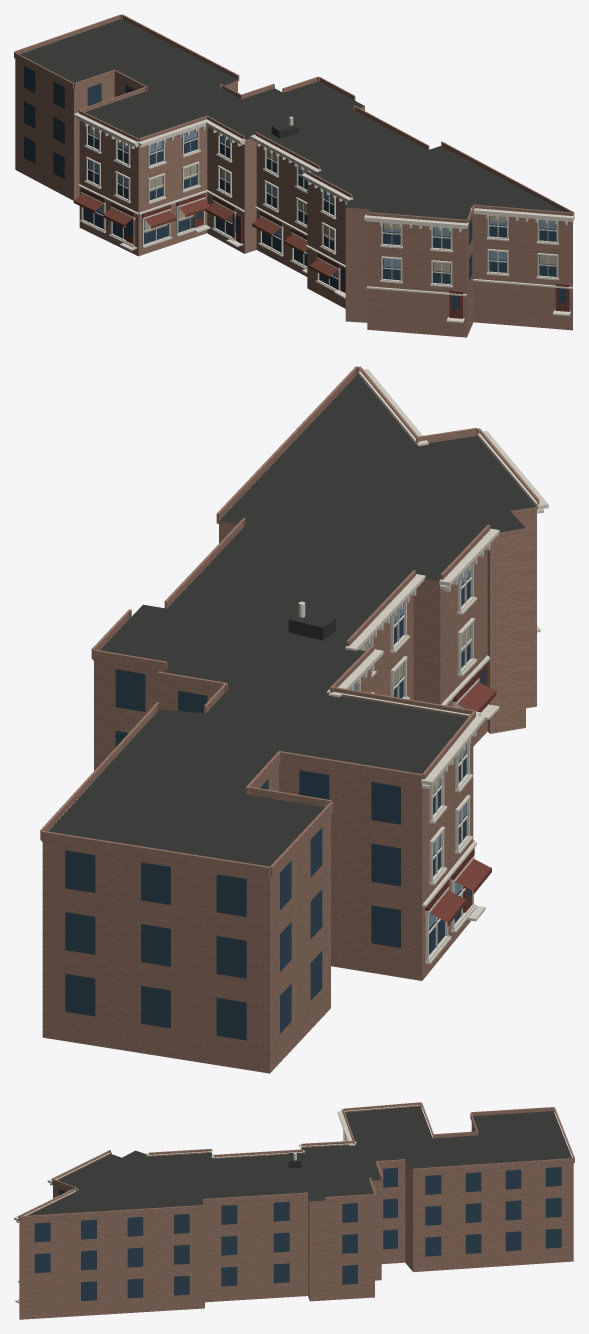
3 views of the same model, one above another, from view 1: azimuth 30°, elevation 25°; view 2: azimuth 150°, elevation 25°; view 3: azimuth 270°, elevation 25° (orthographic). The views are drawn at different scales.
Visible parts, largest first — view 1: Footprint 0 / surface 2, Footprint 0 / surface 1, Cornices and window frames, Inset glazing, Facade bay volumes, Storefronts and doors, Sky reflection panels, Interior blind variation; view 2: Footprint 0 / surface 1, Footprint 0 / surface 2, Inset glazing, Facade bay volumes, Cornices and window frames, Storefronts and doors; view 3: Footprint 0 / surface 2, Footprint 0 / surface 1, Inset glazing, Facade bay volumes, Cornices and window frames.
Part boxes in pixels (<box>): Footprint 0 / surface 2: <box>15,59,572,337</box>; Footprint 0 / surface 1: <box>20,19,563,219</box>; Cornices and window frames: <box>73,112,574,322</box>; Inset glazing: <box>24,66,566,309</box>; Facade bay volumes: <box>14,14,574,224</box>; Storefronts and doors: <box>73,187,569,318</box>; Sky reflection panels: <box>88,130,556,277</box>; Interior blind variation: <box>88,125,556,274</box>; Footprint 0 / surface 1: <box>48,374,536,866</box>; Footprint 0 / surface 2: <box>42,507,536,1073</box>; Inset glazing: <box>65,570,485,1040</box>; Facade bay volumes: <box>40,366,539,877</box>; Cornices and window frames: <box>327,369,548,964</box>; Storefronts and doors: <box>425,662,496,925</box>; Footprint 0 / surface 2: <box>19,1122,573,1319</box>; Footprint 0 / surface 1: <box>28,1106,571,1215</box>; Inset glazing: <box>34,1127,561,1301</box>; Facade bay volumes: <box>18,1102,574,1221</box>; Cornices and window frames: <box>14,1104,420,1302</box>.
Size of the model in its own units: 25.39 by 11.29 by 50.8.
